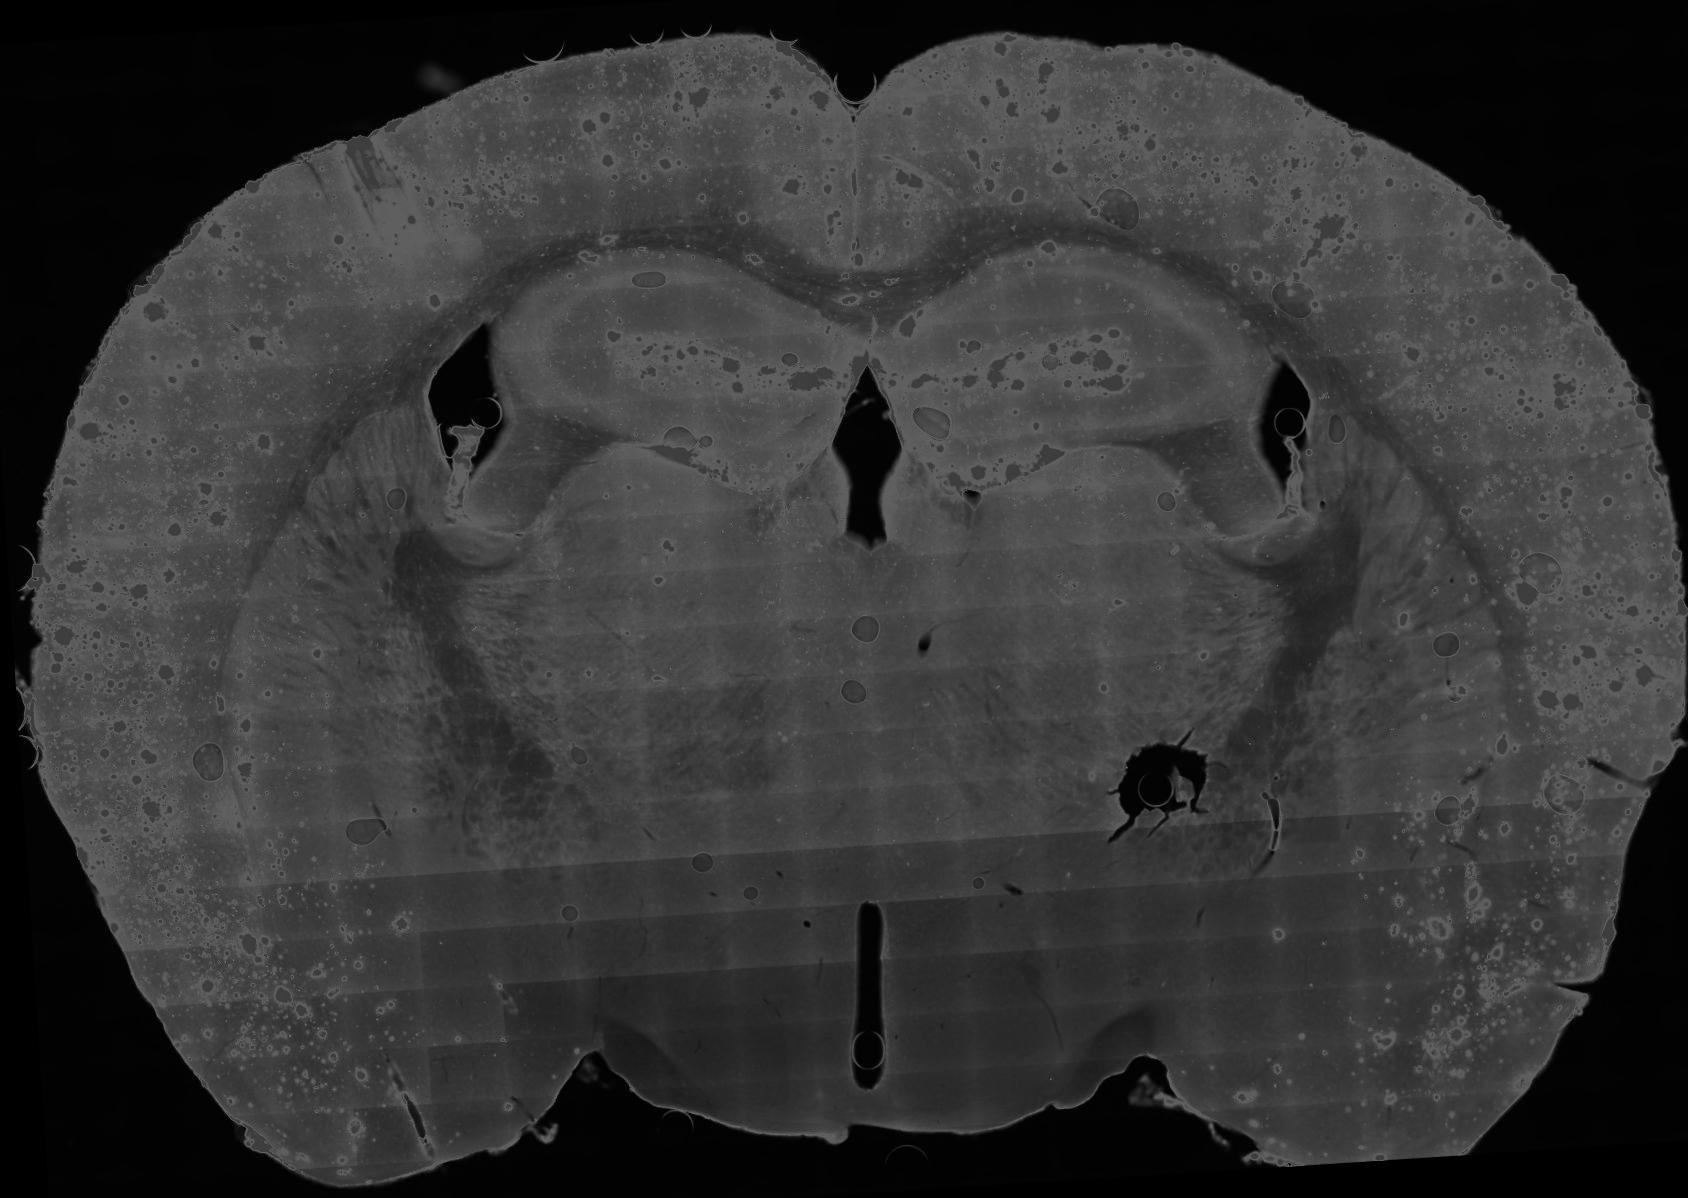Cerebral nuclei: (220, 403, 417, 911), (1304, 403, 1510, 844)
Hippocampal formation: (869, 245, 1252, 491), (497, 248, 870, 491)
Hypothalamus: (502, 801, 867, 1144), (863, 790, 1201, 1138)
Retrosplenial area: (854, 61, 971, 274), (752, 51, 856, 274)
Somatosensory area: (30, 51, 638, 640), (1080, 43, 1657, 558)
Thalamus: (863, 442, 1296, 841), (450, 437, 870, 845)
